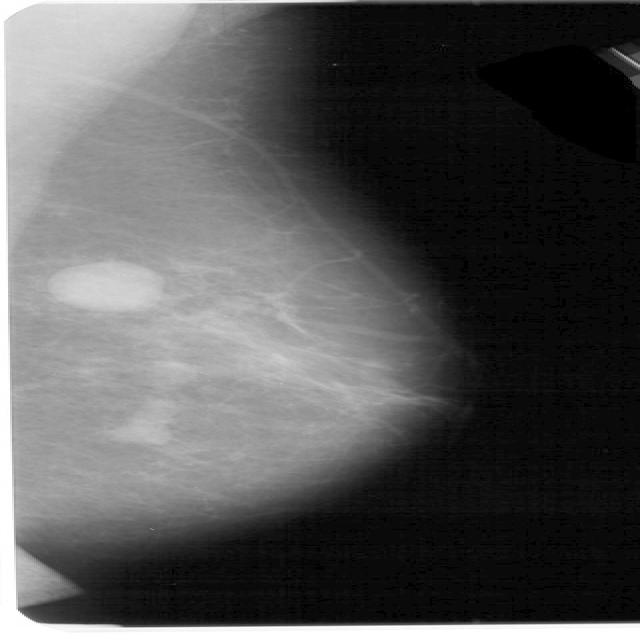tumour: (48, 260, 160, 310), (114, 398, 172, 444)
